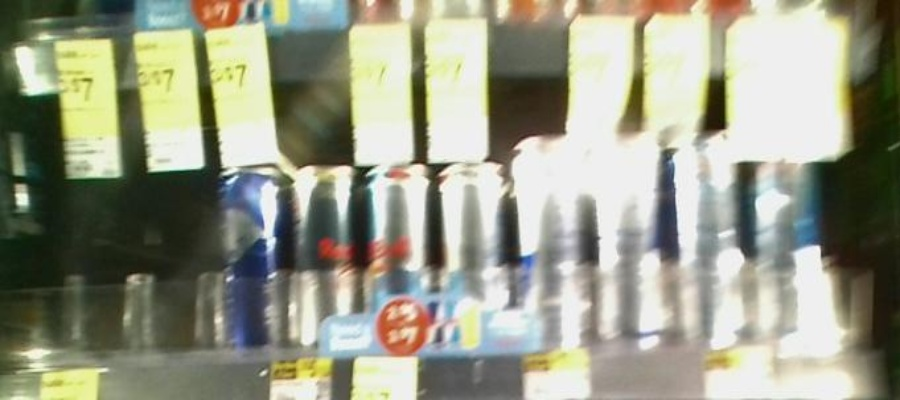bottle: (748, 110, 822, 346), (589, 125, 669, 343), (673, 116, 745, 341), (514, 137, 584, 340), (214, 160, 284, 354), (363, 159, 433, 346), (437, 159, 506, 343), (289, 159, 356, 347)
